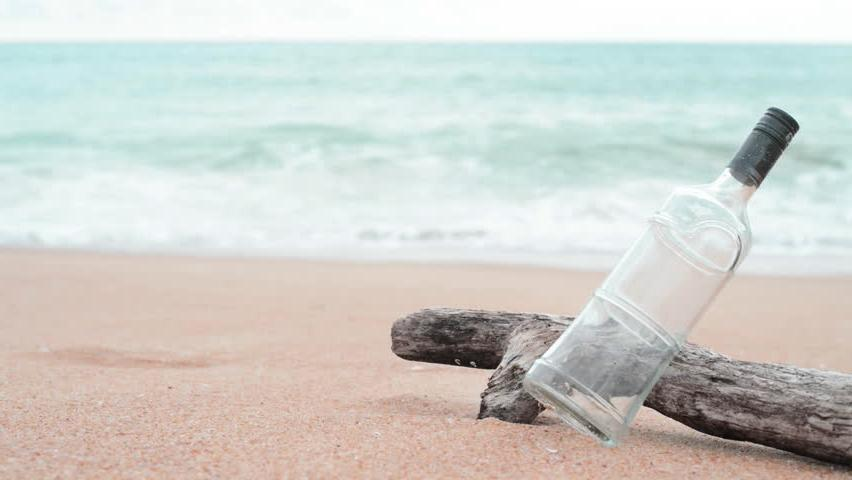Glass: (519, 104, 806, 448)
